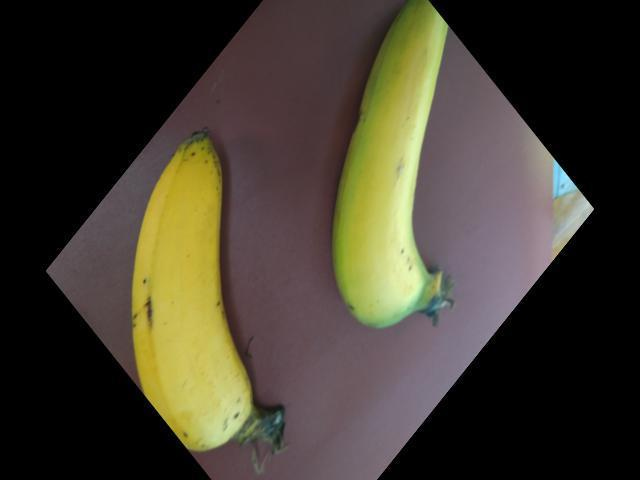freshripe: (96, 117, 304, 476), (310, 0, 496, 364)
